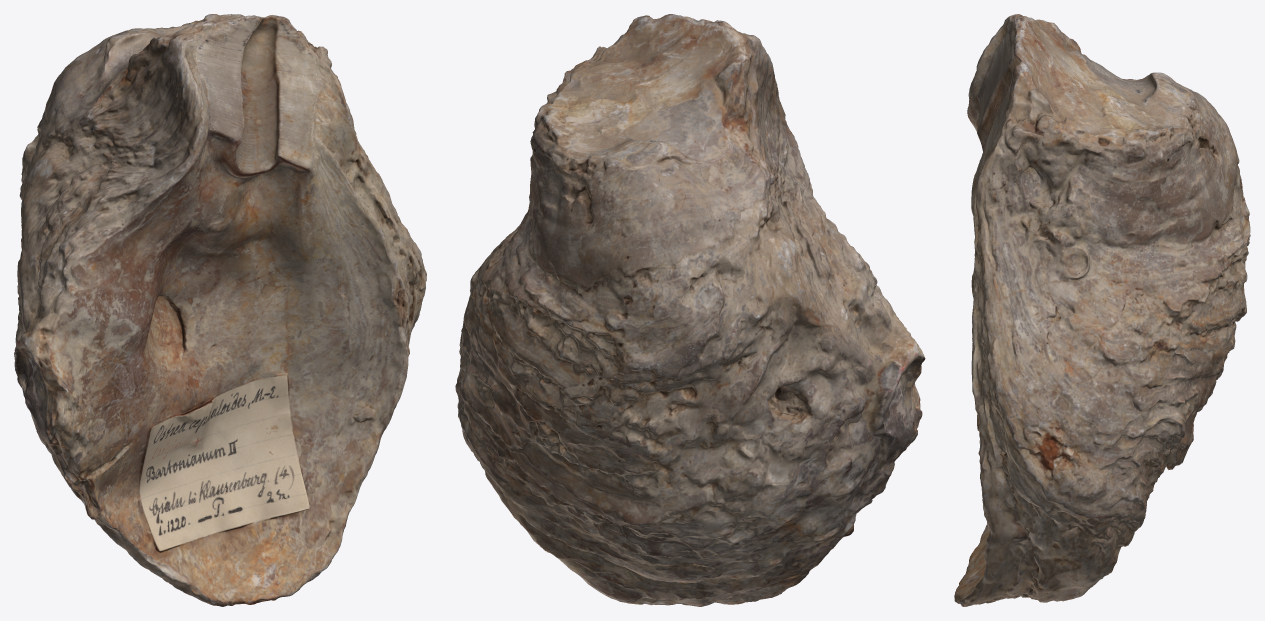
Rendered from EWS0016386.glb.
3 views of the same model, side by side, from view 1: azimuth 30°, elevation 25°; view 2: azimuth 150°, elevation 25°; view 3: azimuth 270°, elevation 25° (orthographic). The views are drawn at different scales.
Parts seen in each view (by area): view 1: input; view 2: input; view 3: input.
Part boxes in pixels (<box>): input: <box>14,14,426,606</box>; input: <box>455,14,925,606</box>; input: <box>954,14,1250,606</box>.
Size of the model in its own units: 0.161 by 0.2161 by 0.1033.
1 material, 1 textured.
